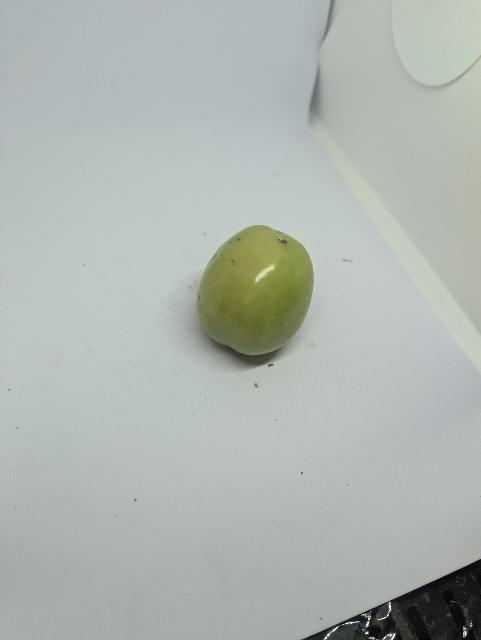green: (196, 222, 317, 357)
